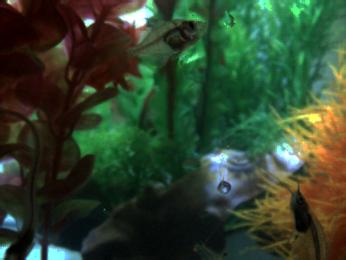X-ray fish: (117, 18, 207, 71)
glassfish: (1, 105, 45, 260), (285, 189, 331, 260)
